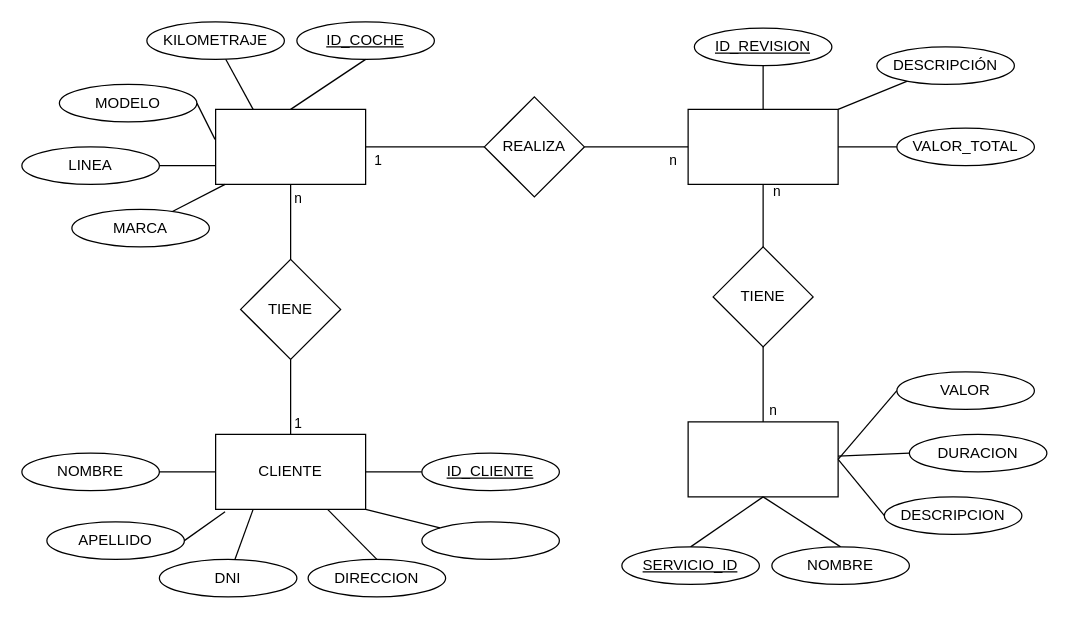
This 1069x619 diagram has some shape labels left out. Here are the shapes that lost their labels. From the top down, the centre of each, then its label:
(x=290, y=146): COCHE
(x=762, y=146): REVISION
(x=762, y=459): SERVICIO
(x=490, y=540): EMAIL
